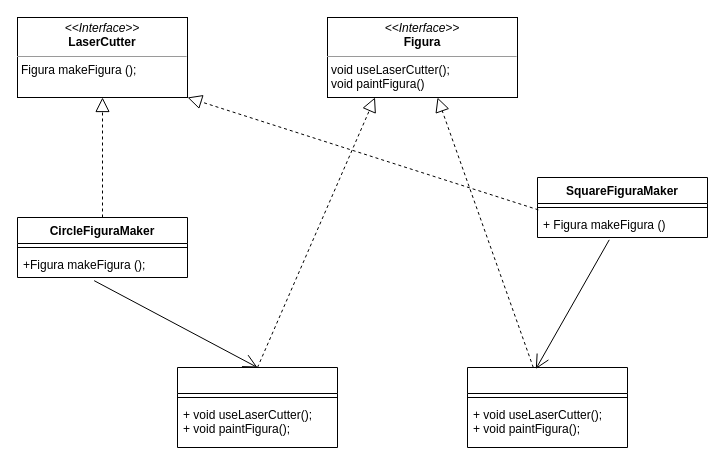
The diagram is 725 pixels wide and 468 high, and some of its shapes have lost their labels. The shapes that lost their labels are listed below. From the top down, each one's box as (x1, y1, x2, y2) in pixels, then its label:
(176, 366, 338, 448): Circle
(466, 366, 628, 448): Square
